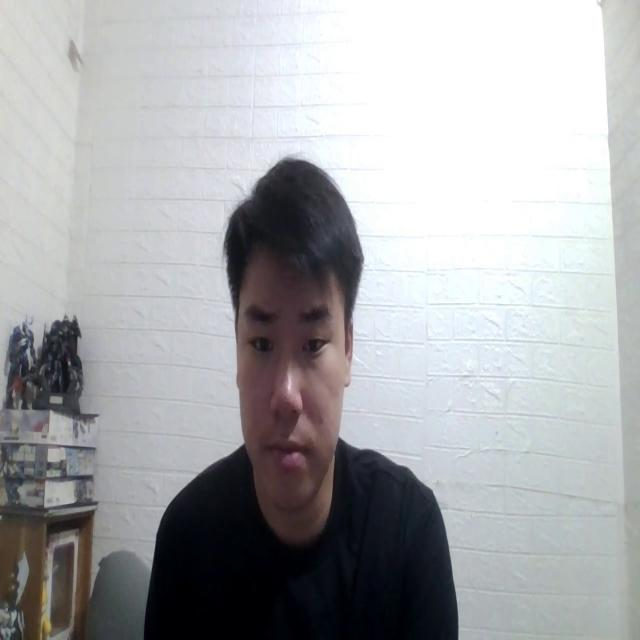student: (142, 152, 460, 640)
